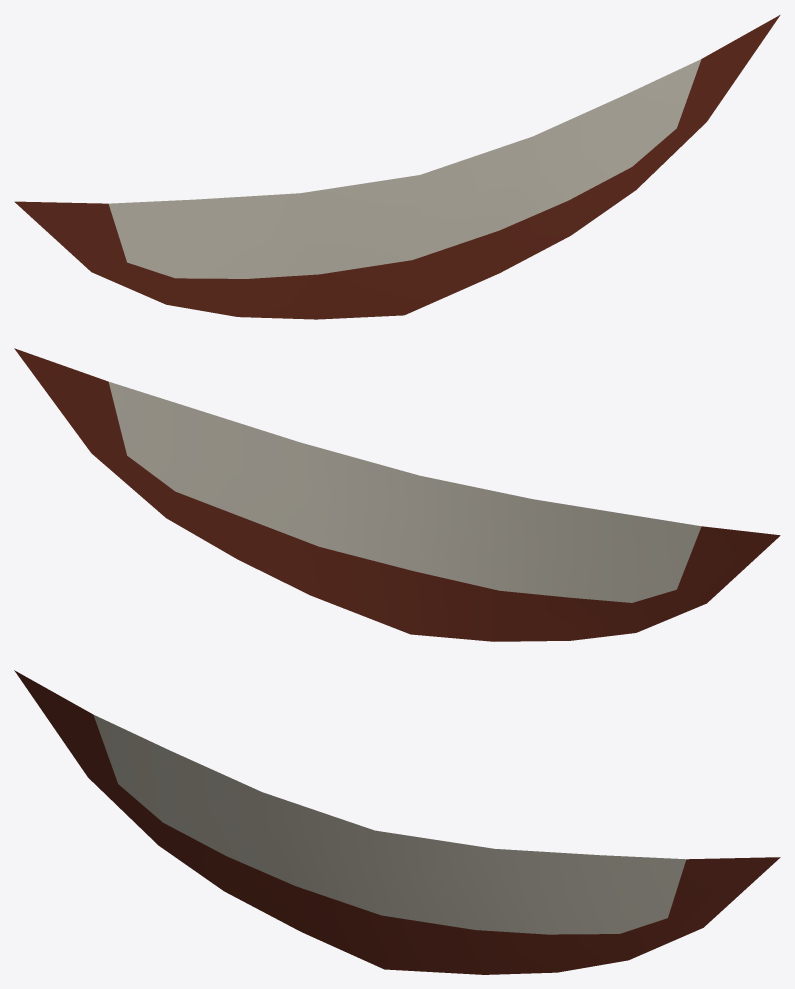
Rendered from lips_9.fbx.
3 views of the same model, one above another, from view 1: azimuth 30°, elevation 25°; view 2: azimuth 150°, elevation 25°; view 3: azimuth 330°, elevation 25° (orthographic).
Parts seen in each view (by area): view 1: lips_9; view 2: lips_9; view 3: lips_9.
Part boxes in pixels (left/top/right/bottom): lips_9: left=14, top=15, right=780, bottom=319; lips_9: left=14, top=348, right=780, bottom=641; lips_9: left=14, top=670, right=780, bottom=974.
Bounding box in the file's own units: 11.32 × 2.81 × 0.576.
